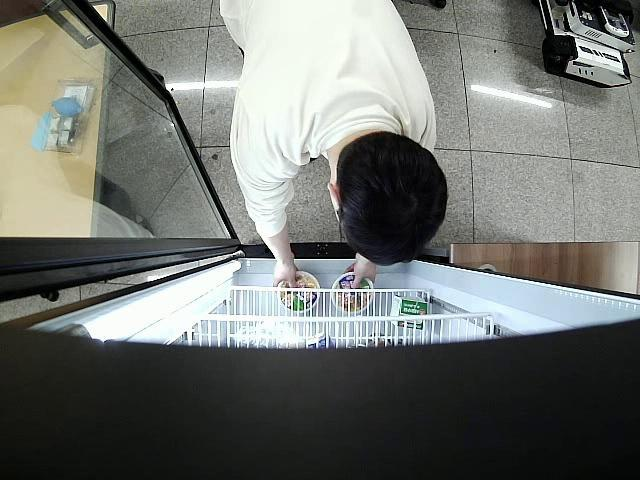09_yukGaeJang: (332, 274, 375, 314), (278, 272, 320, 312)
